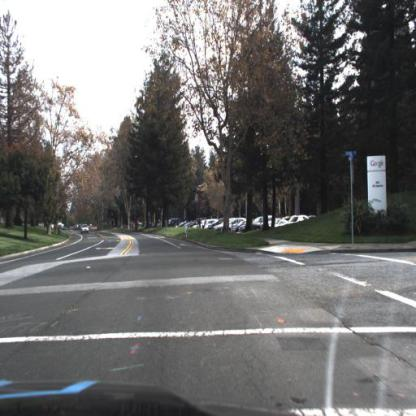car: (82, 225, 90, 234)
